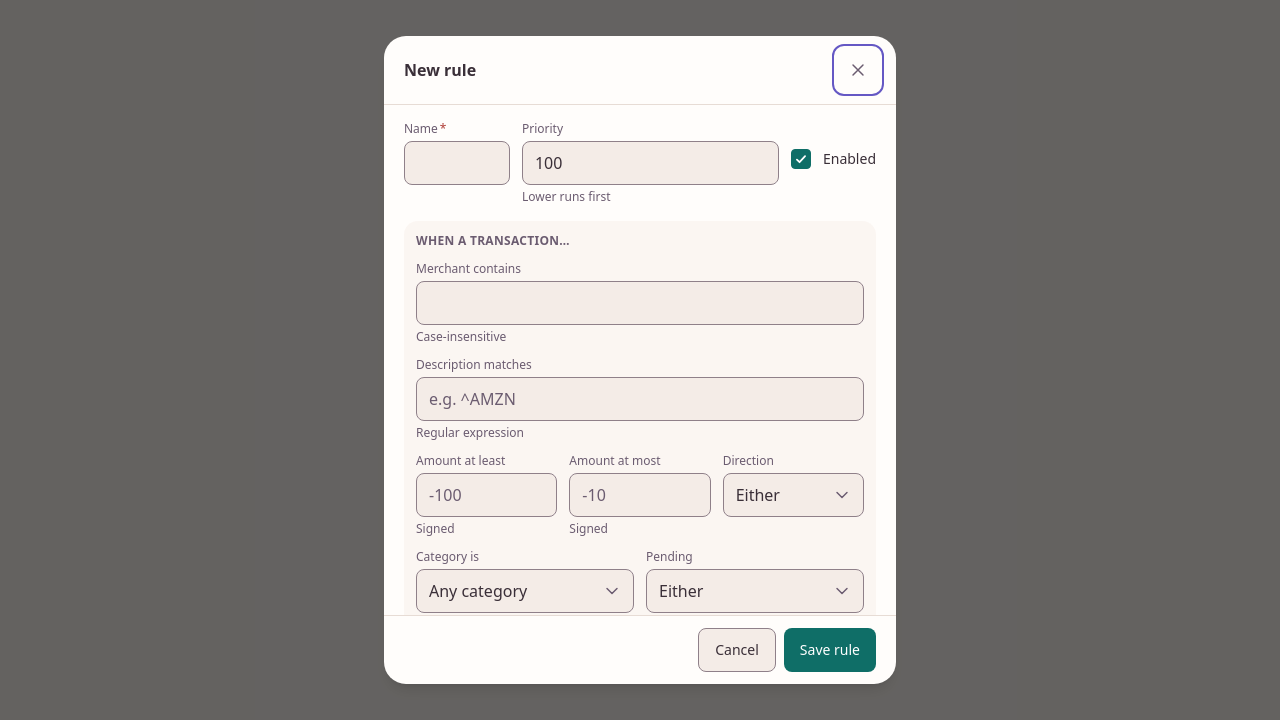
<RuleBuilder /> › refuses to save without a name
Step 1. Click the button with test id "rule-save" → [830, 650], box [784,628,876,672]
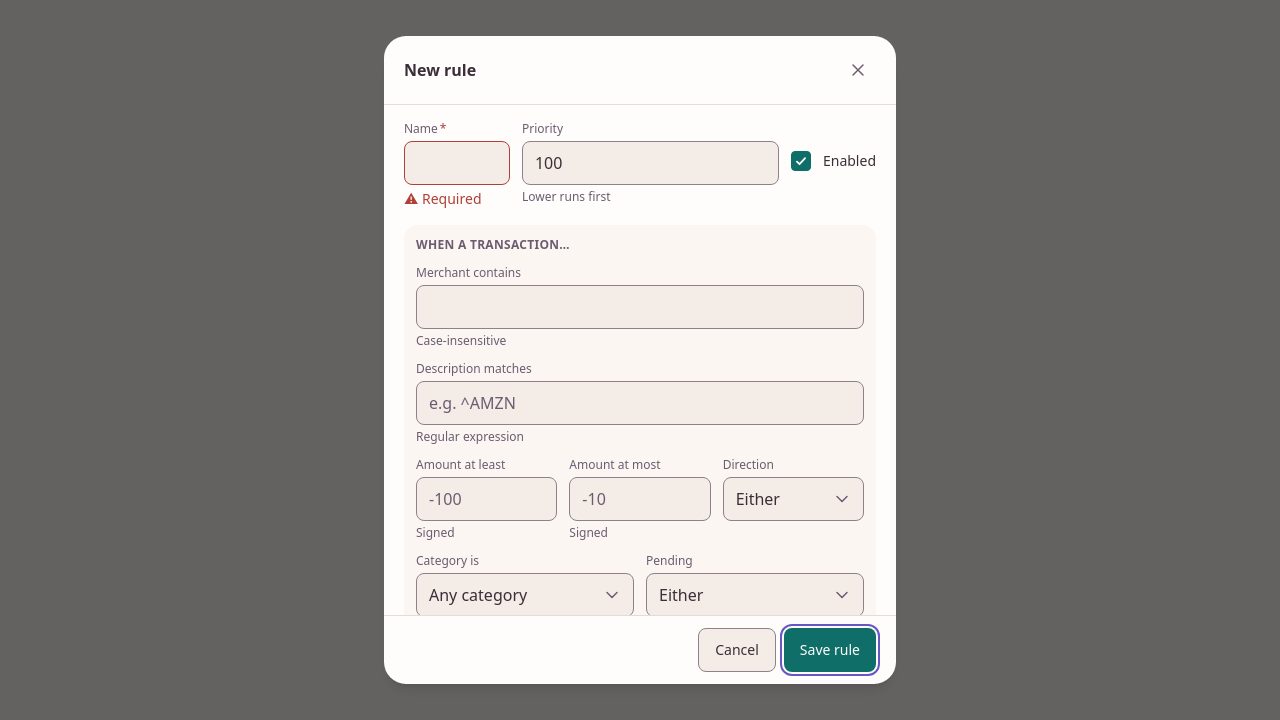
Result: the text "Required" is shown at [422,189,482,208]
